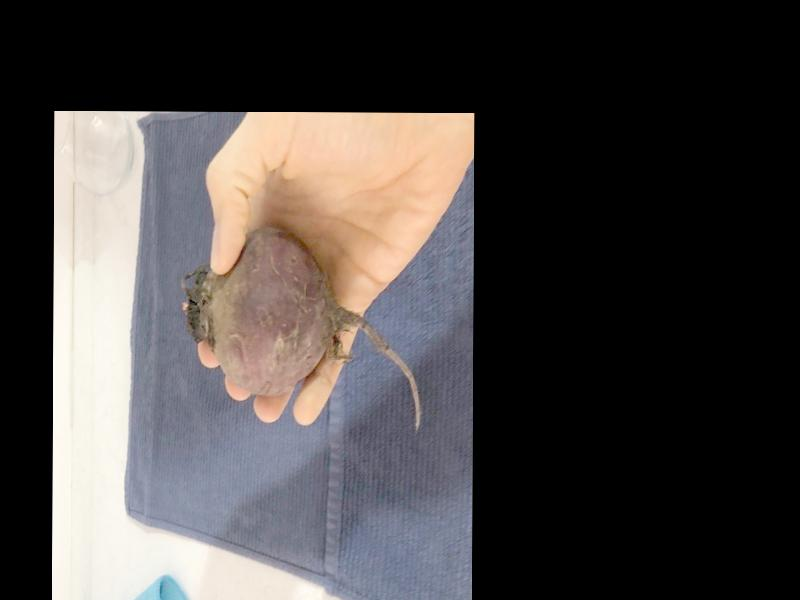Beet: (181, 224, 421, 433)
